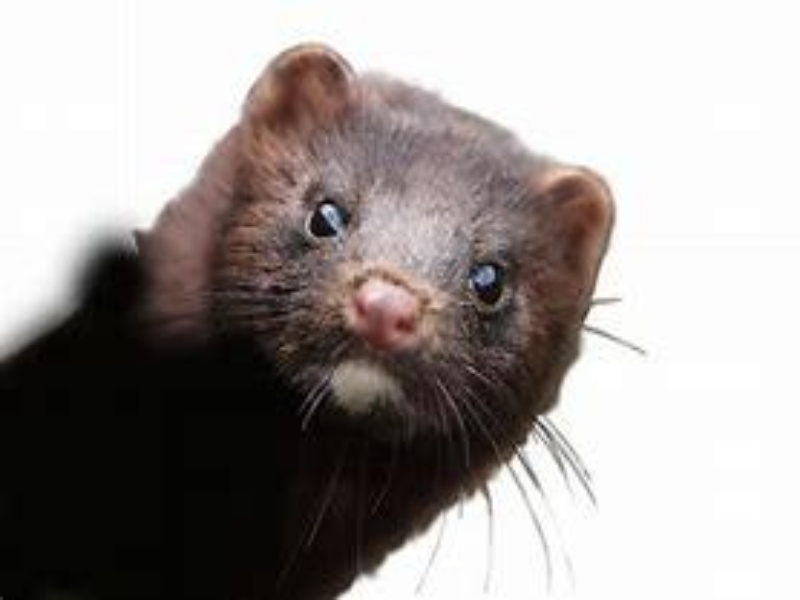minkish: (11, 38, 616, 595)
